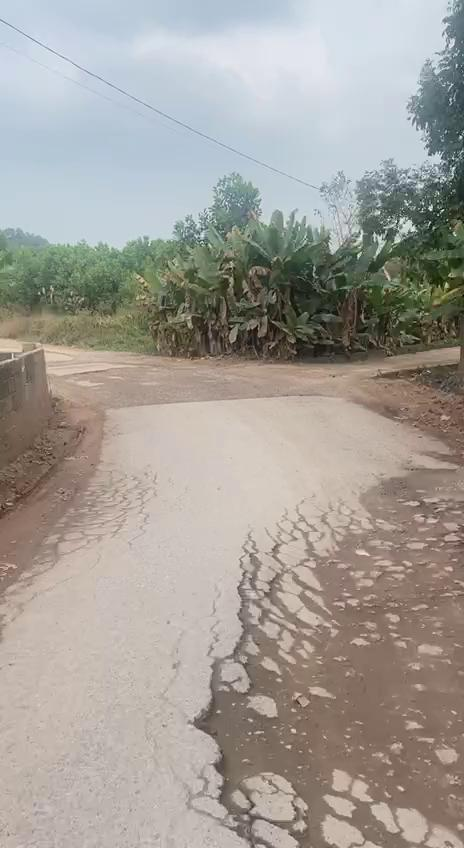pothole: (188, 464, 464, 848)
